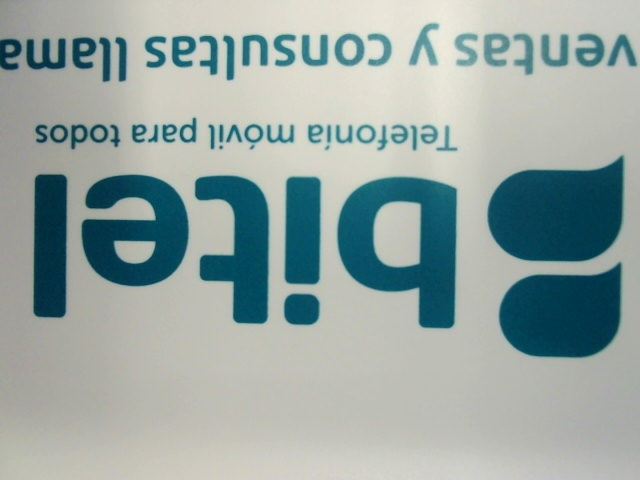BE_bitel: (8, 157, 628, 361)
